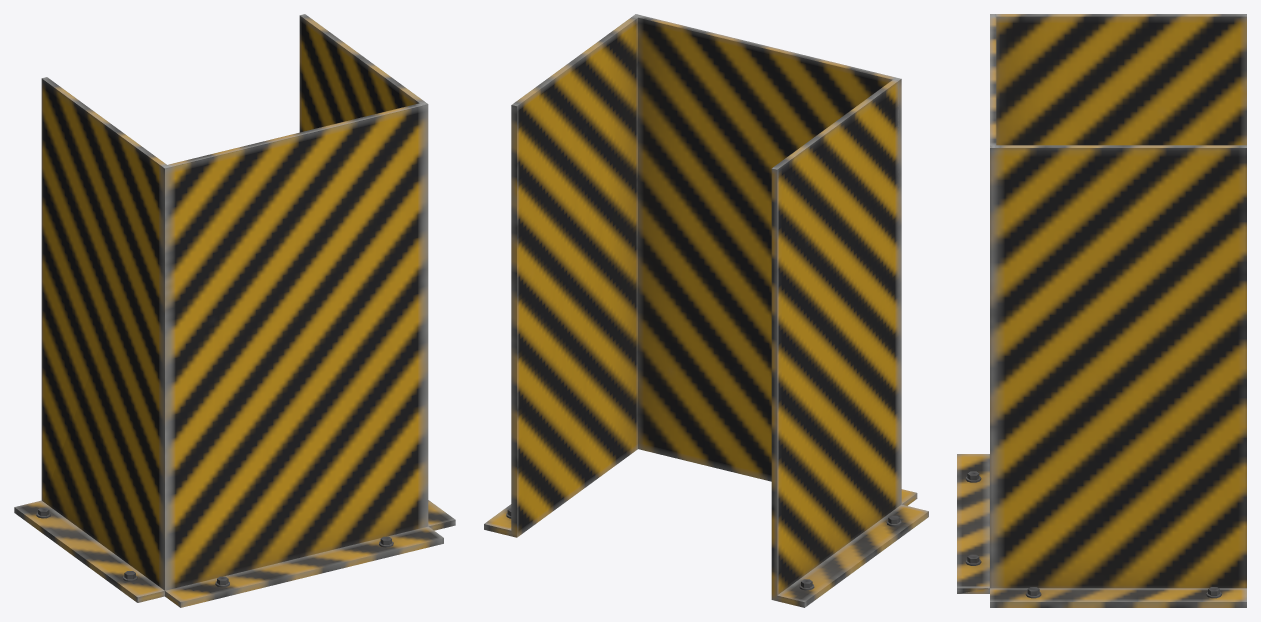
File: Column_Guard.fbx
The picture shows the model from 3 angles, left to right: view 1: azimuth 30°, elevation 25°; view 2: azimuth 150°, elevation 25°; view 3: azimuth 270°, elevation 25°; orthographic projection. The views are drawn at different scales.
Parts seen in each view (by area): view 1: Column_Guard_LOD0; view 2: Column_Guard_LOD0; view 3: Column_Guard_LOD0.
Boxes of the visible parts, box(x1,y1,x2,y2) form: Column_Guard_LOD0: box(14, 14, 455, 607); Column_Guard_LOD0: box(484, 14, 928, 607); Column_Guard_LOD0: box(957, 14, 1246, 607).
Size of what is drawn, in the model's own units: 0.7 by 0.9 by 0.53.
Materials: 1 (1 with a texture image).
